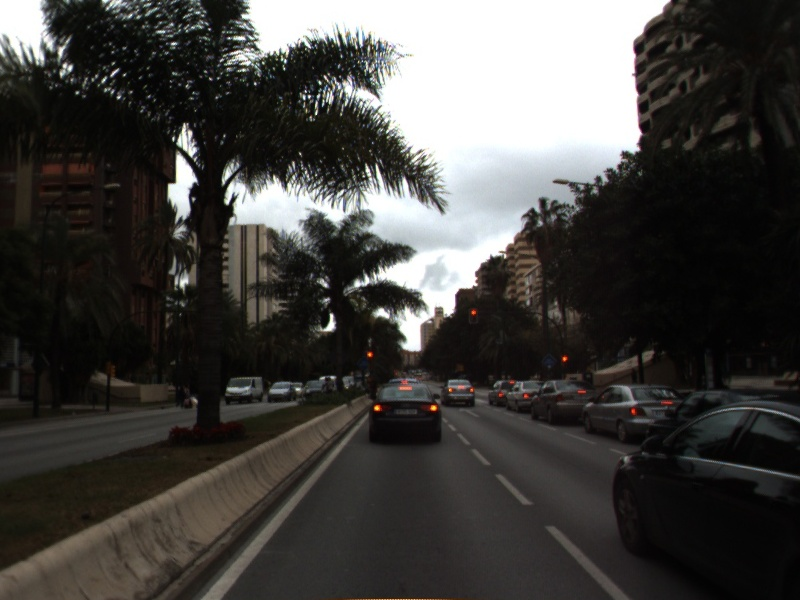STRAIGHT: (456, 404, 482, 419)
